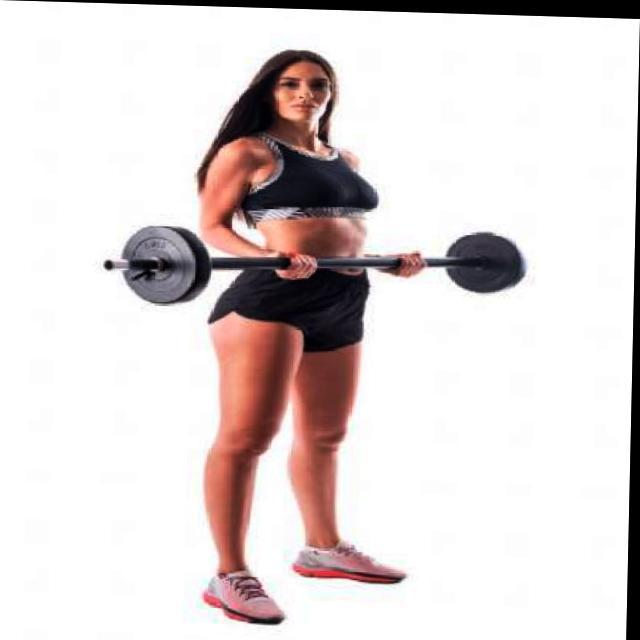barbell: (99, 222, 205, 309)
